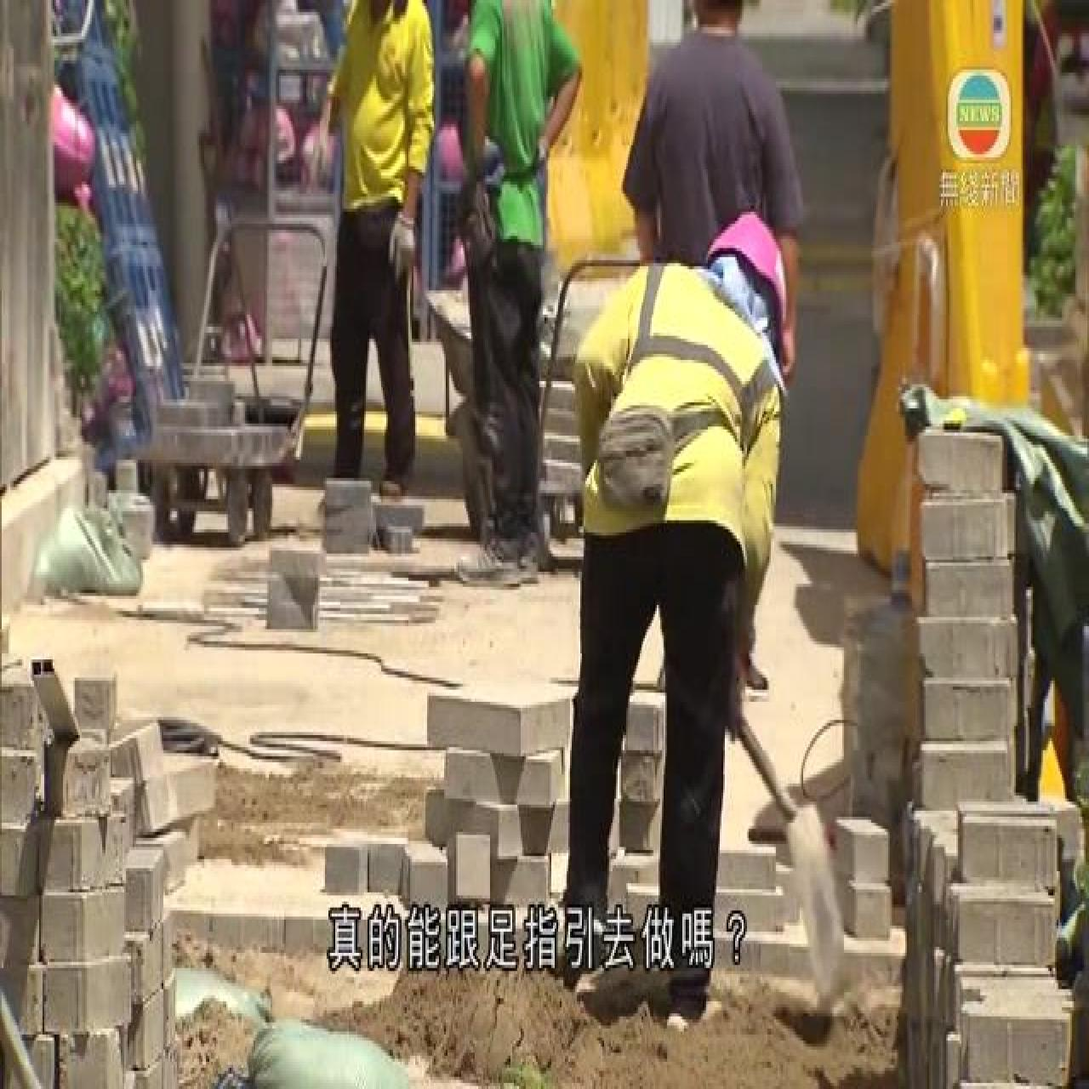NO_Safety_Vest: (599, 252, 778, 599), (660, 47, 767, 287), (336, 0, 432, 213), (468, 0, 562, 197)
Person: (560, 206, 798, 1047), (621, 0, 801, 727), (437, 0, 588, 576), (304, 0, 439, 509)
